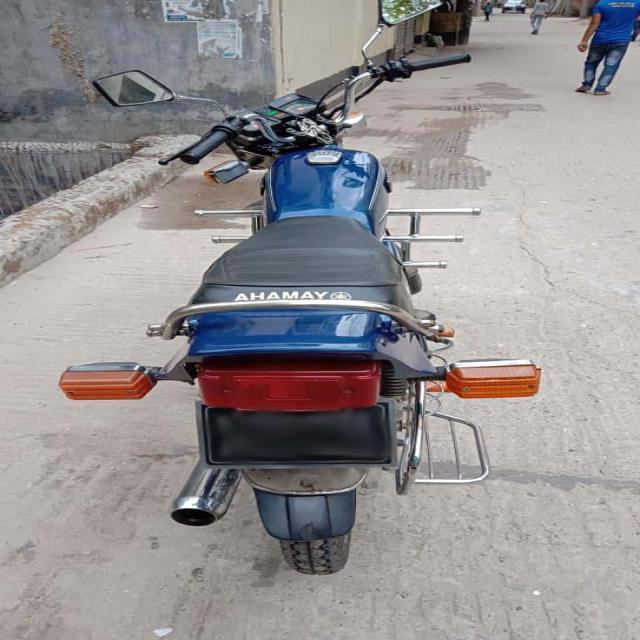Motorbike: (58, 24, 542, 578)
